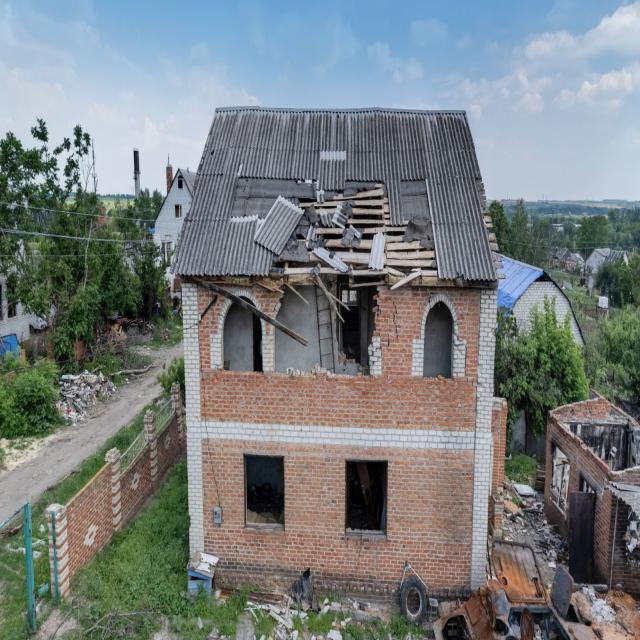broken_window: (345, 458, 387, 536), (243, 452, 284, 530), (221, 298, 263, 372), (422, 297, 453, 379), (337, 287, 361, 364)
building: (170, 105, 506, 620)
damaged_roof: (169, 106, 499, 286)
